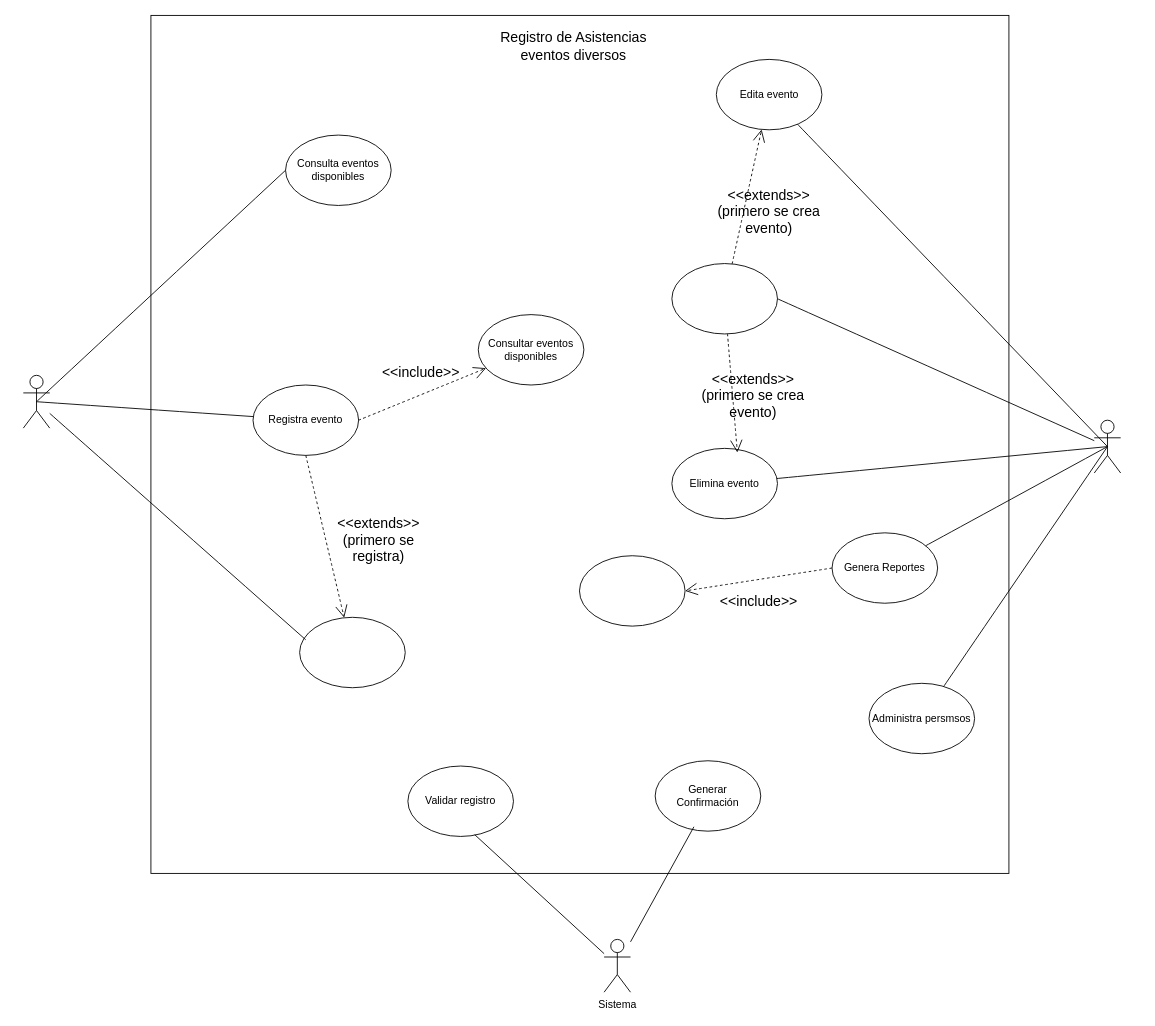
This 1155x1026 diagram has some shape labels left out. The centre of each missing label's shape, as x and y in pixels:
Administrador: the point at 1107,446
Asistente: the point at 36,401
Consulta confirmación de registro: the point at 352,652
Consulta reportes: the point at 632,590
Crea evento: the point at 724,298
